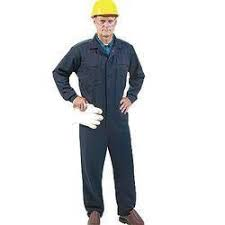Person_wearing_helmet: (86, 0, 122, 24)
